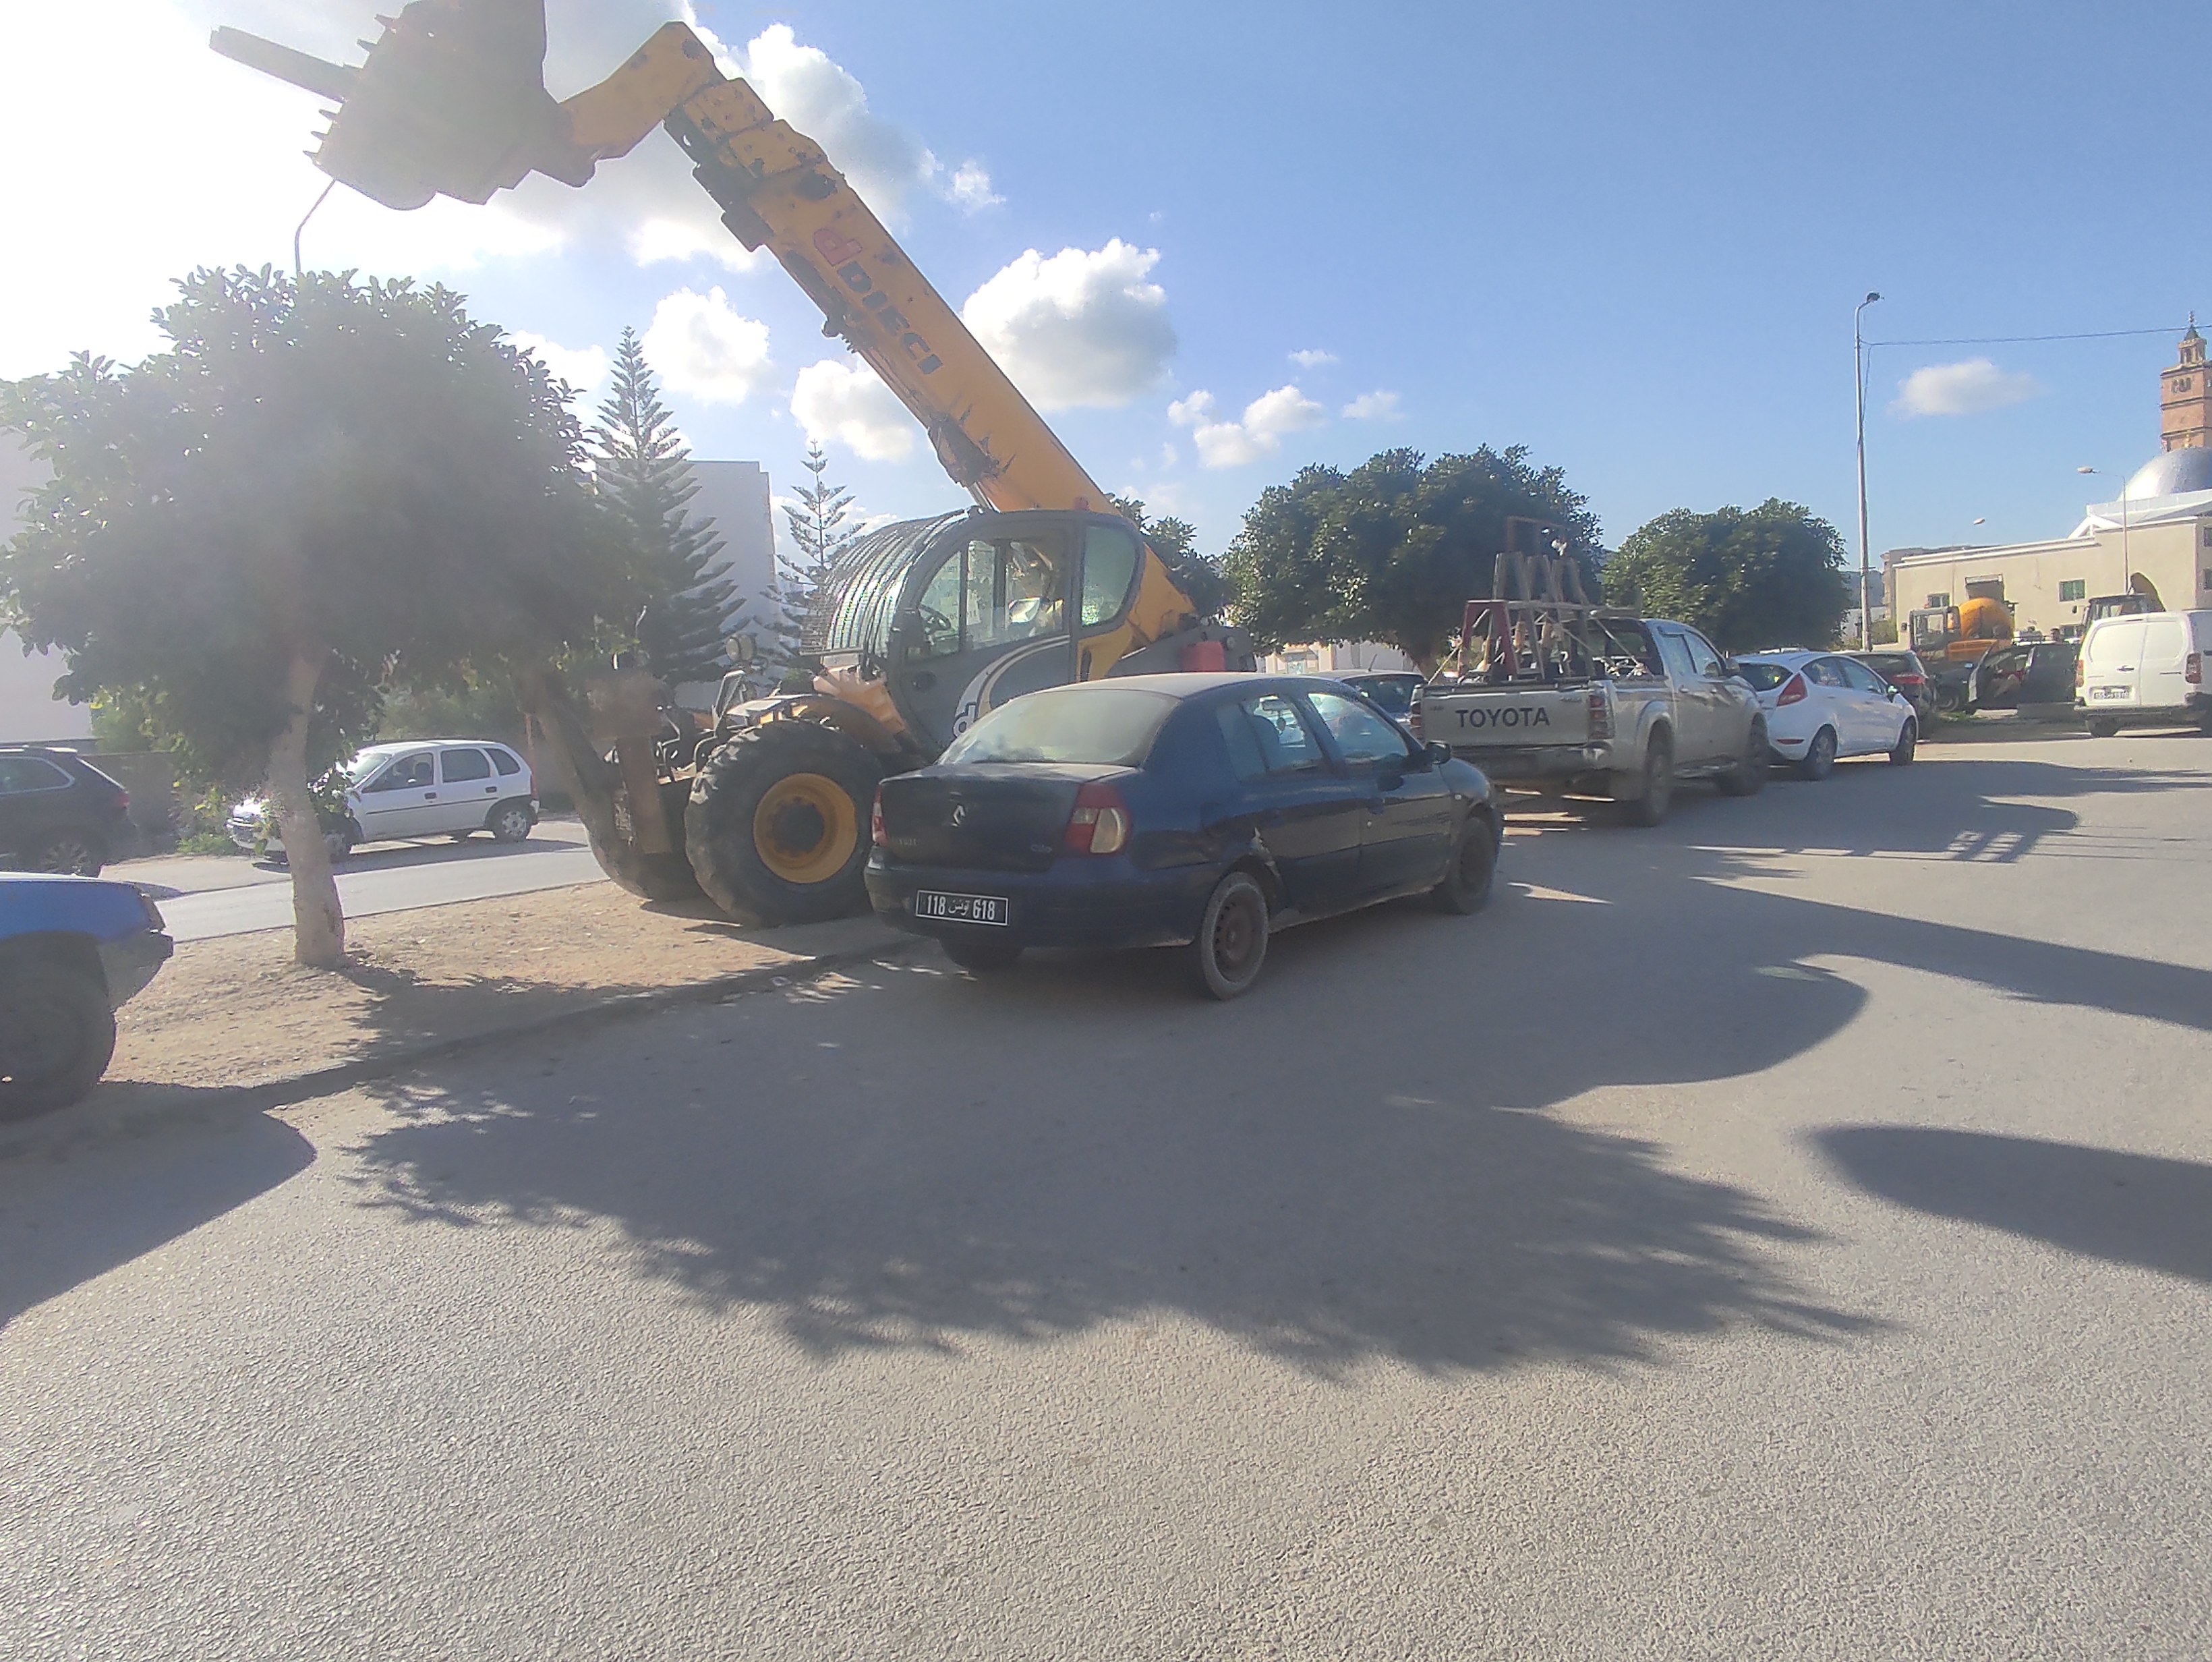isuzu: (1723, 628, 1936, 787)
peugoet: (1842, 641, 1936, 745)
plate: (213, 14, 1267, 953), (5, 857, 196, 1124), (0, 737, 159, 889), (1281, 651, 1437, 758), (1922, 594, 2029, 676)
porshe: (2078, 608, 2212, 770)
renault: (878, 672, 1512, 990)
uk: (1405, 615, 1786, 838), (222, 730, 548, 869)
